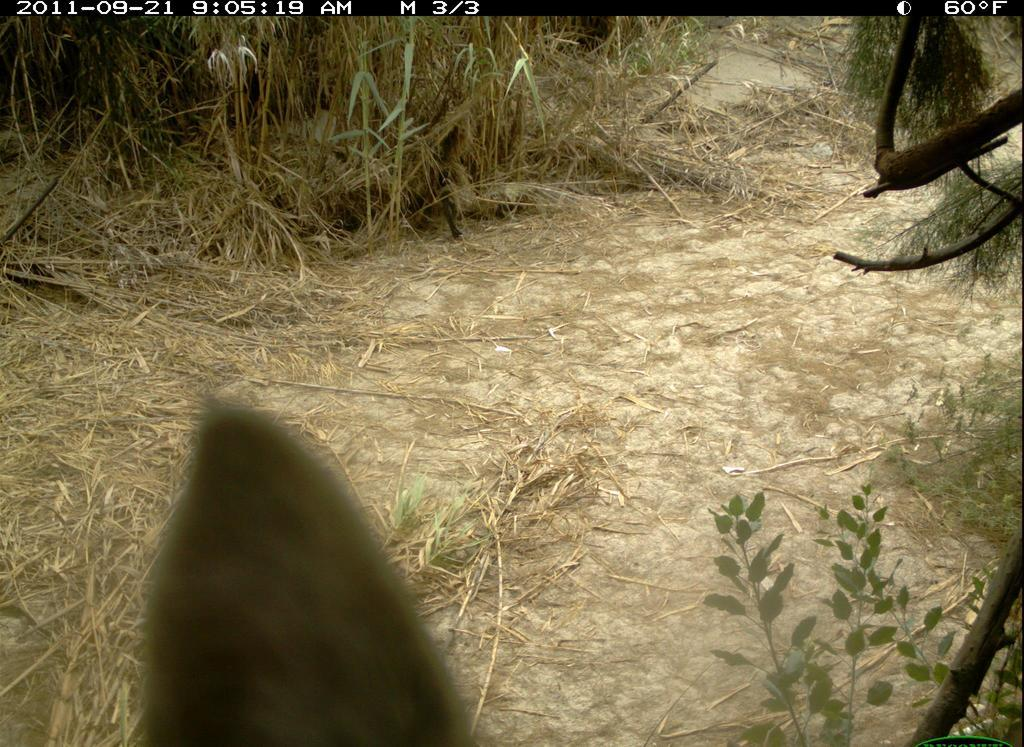bobcat: (113, 385, 495, 747)
